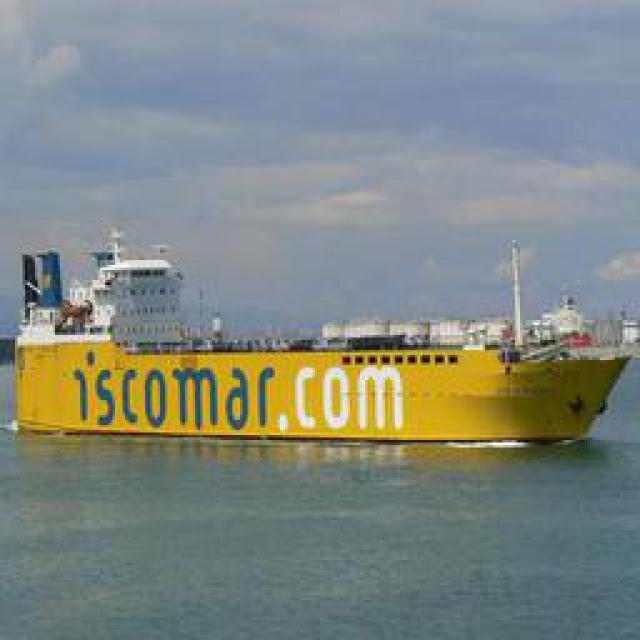Ship: (1, 239, 626, 449)
